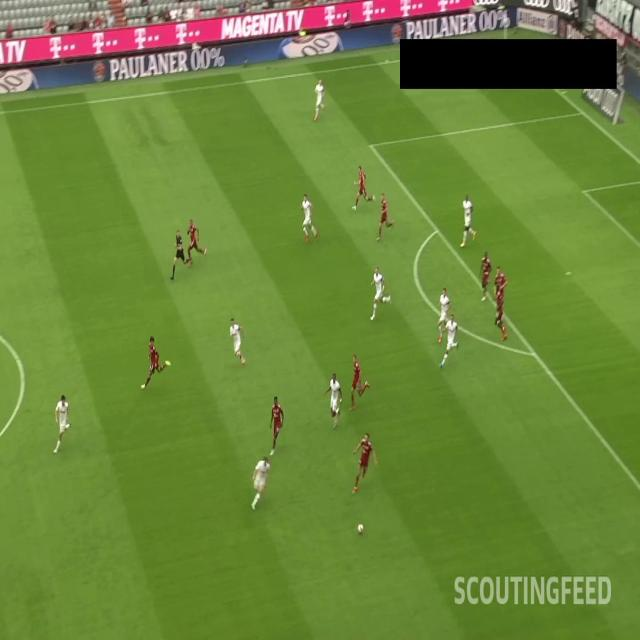ball: (356, 516, 365, 540)
player: (140, 332, 172, 389), (352, 431, 381, 493), (368, 265, 393, 322), (52, 393, 74, 456), (347, 353, 370, 412), (250, 454, 272, 512), (351, 164, 377, 213), (227, 313, 248, 369), (374, 189, 396, 242), (324, 368, 342, 432), (186, 218, 208, 268), (460, 190, 478, 250), (435, 286, 452, 347), (439, 313, 458, 367), (268, 394, 284, 456), (492, 285, 508, 342), (492, 263, 508, 317), (301, 193, 318, 243), (477, 250, 492, 300), (313, 72, 327, 124)
referee: (169, 228, 194, 284)
